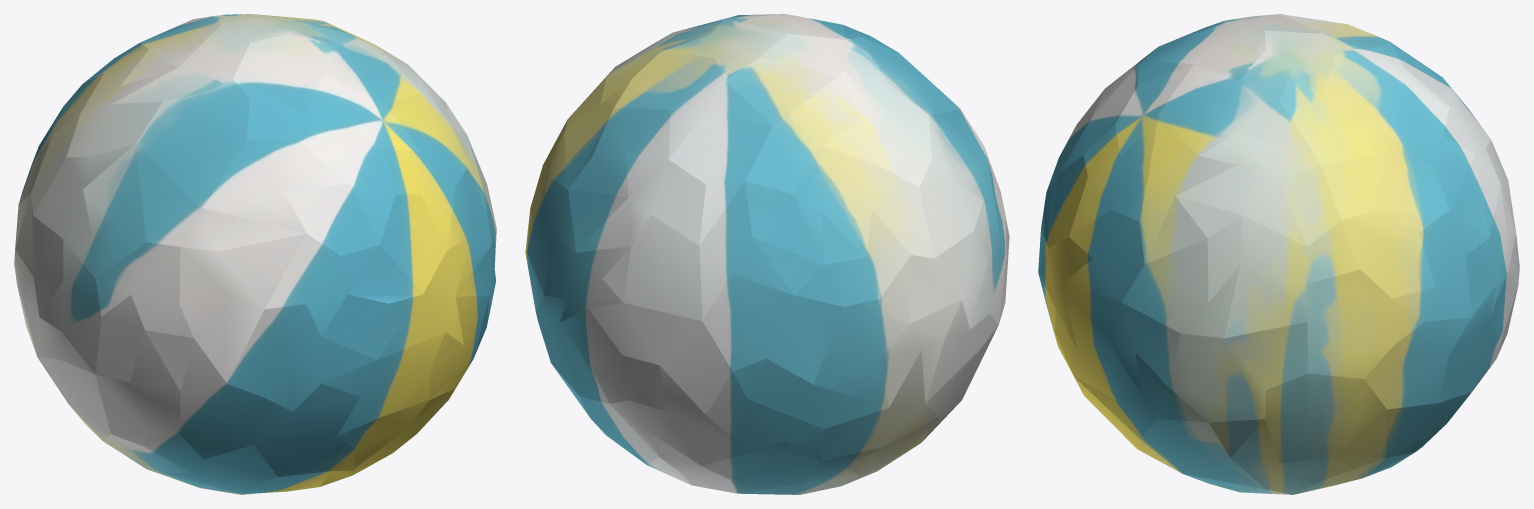
The model's file is meshy.glb.
3 renders of one model, left to right at view 1: azimuth 30°, elevation 25°; view 2: azimuth 150°, elevation 25°; view 3: azimuth 270°, elevation 25°, orthographic.
Size of the model in its own units: 1.89 by 1.89 by 1.9.
1 material, 1 textured.
